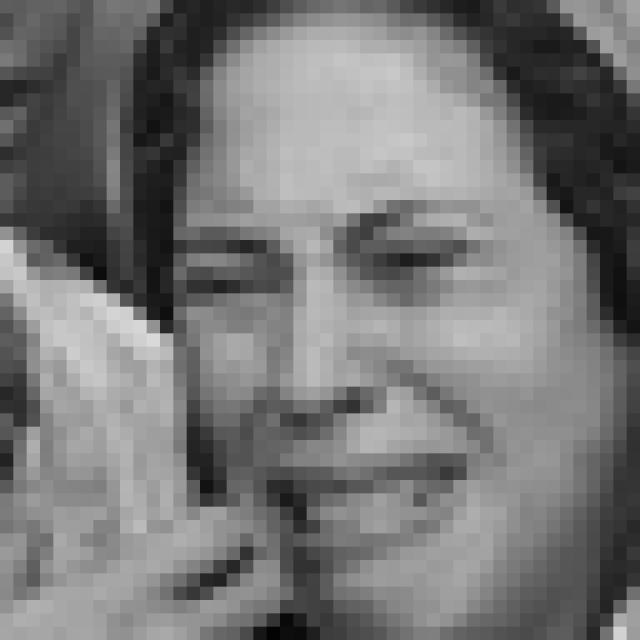sad: (183, 197, 501, 568)
